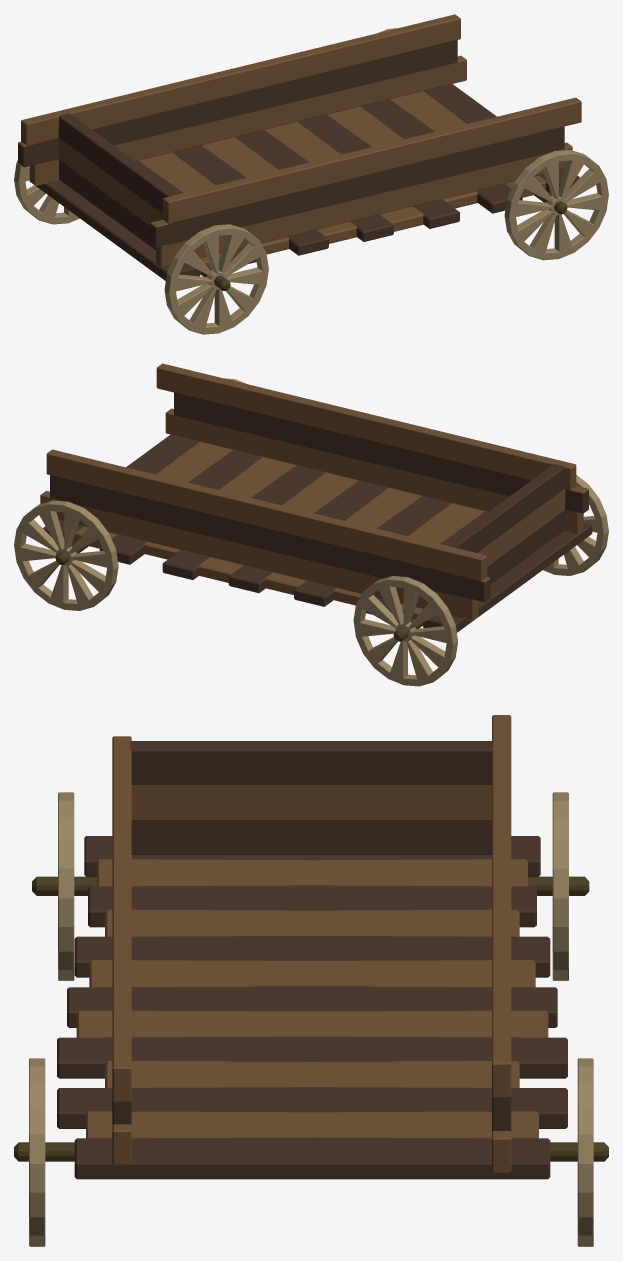
The model's file is west_cart.fbx.
3 views of the same model, one above another, from view 1: azimuth 30°, elevation 25°; view 2: azimuth 150°, elevation 25°; view 3: azimuth 270°, elevation 25° (orthographic). The views are drawn at different scales.
Visible parts, largest first — view 1: Node; view 2: Node; view 3: Node.
Part boxes in pixels (bbox=[...]): Node: bbox=[14, 14, 608, 334]; Node: bbox=[14, 363, 608, 686]; Node: bbox=[14, 715, 608, 1246].
Size of the model in its own units: 1 by 0.274 by 0.7041.
